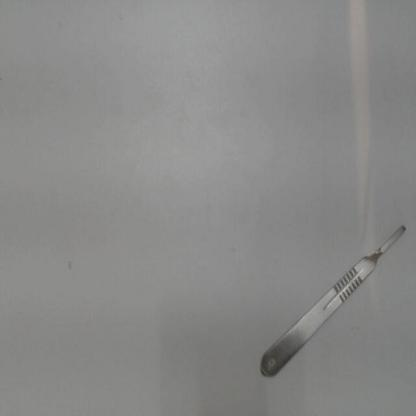No.4 BP Handle: (251, 218, 410, 386)
